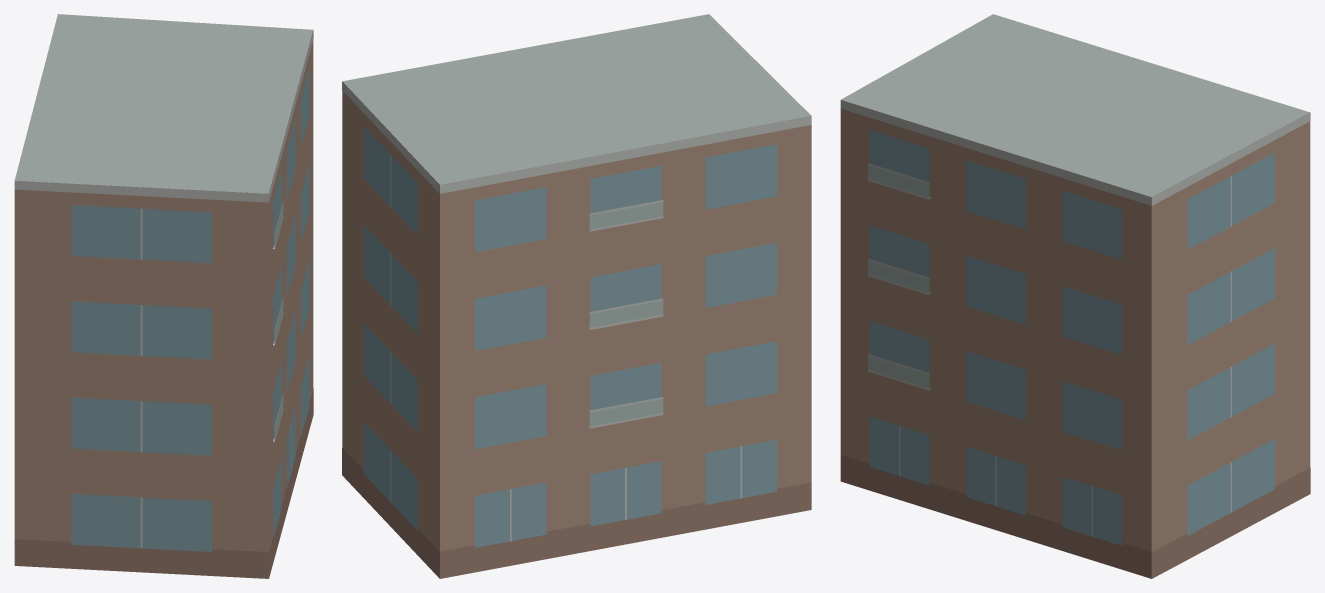
File: survey-upis-32630283.glb
3 views of the same model, side by side, from view 1: azimuth 30°, elevation 25°; view 2: azimuth 150°, elevation 25°; view 3: azimuth 270°, elevation 25° (orthographic). The views are drawn at different scales.
Parts seen in each view (by area): view 1: survey-upis-32630283.tmp; view 2: survey-upis-32630283.tmp; view 3: survey-upis-32630283.tmp.
Part boxes in pixels (bbox=[...]): survey-upis-32630283.tmp: bbox=[14, 14, 313, 578]; survey-upis-32630283.tmp: bbox=[342, 14, 811, 578]; survey-upis-32630283.tmp: bbox=[840, 14, 1310, 578].
Bounding box in the file's own units: 11.03 × 10.7 × 11.95.
